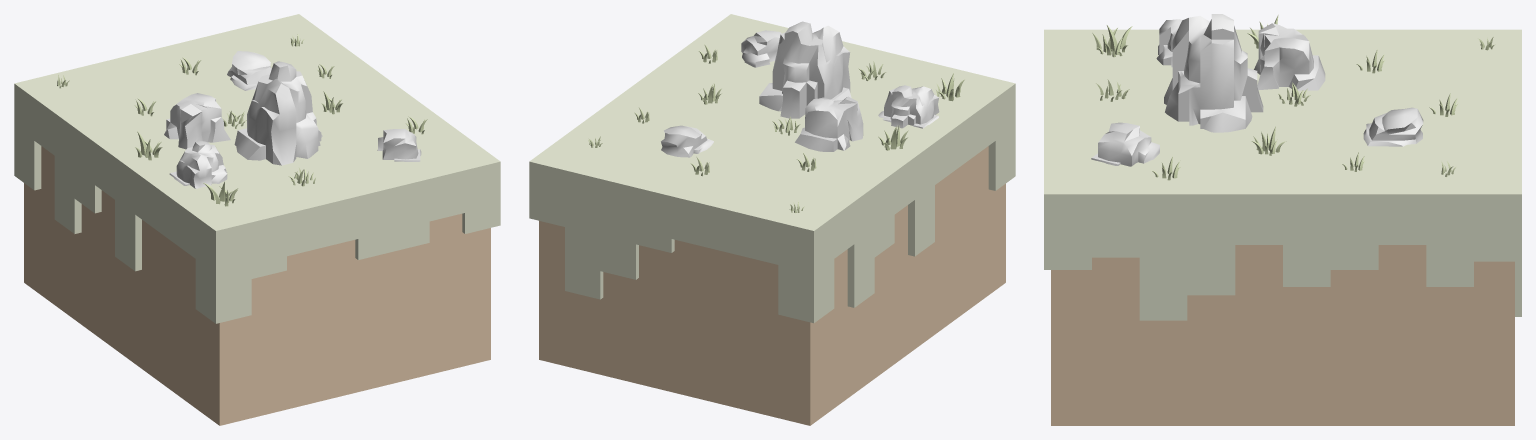
Rendered from PlattformStartNine.dae.
3 views of the same model, side by side, from view 1: azimuth 30°, elevation 25°; view 2: azimuth 150°, elevation 25°; view 3: azimuth 270°, elevation 25° (orthographic). The views are drawn at different scales.
Parts seen in each view (by area): view 1: Plattform-LightGreen, Plattform-Brown, Rock.001, Grass.001; view 2: Plattform-LightGreen, Plattform-Brown, Rock.001, Grass.001; view 3: Plattform-LightGreen, Plattform-Brown, Rock.001, Grass.001.
Part boxes in pixels (box(x1,y1,x2,y2)): Plattform-LightGreen: box(14, 14, 500, 323); Plattform-Brown: box(24, 146, 490, 425); Rock.001: box(164, 51, 421, 188); Grass.001: box(57, 34, 427, 206); Plattform-LightGreen: box(529, 14, 1015, 323); Plattform-Brown: box(539, 146, 1005, 425); Rock.001: box(661, 21, 939, 157); Grass.001: box(588, 44, 964, 212); Plattform-LightGreen: box(1044, 29, 1521, 320); Plattform-Brown: box(1051, 245, 1514, 425); Rock.001: box(1091, 14, 1423, 166); Grass.001: box(1092, 14, 1495, 180).
Size of the model in its own units: 210 by 258 by 196.
